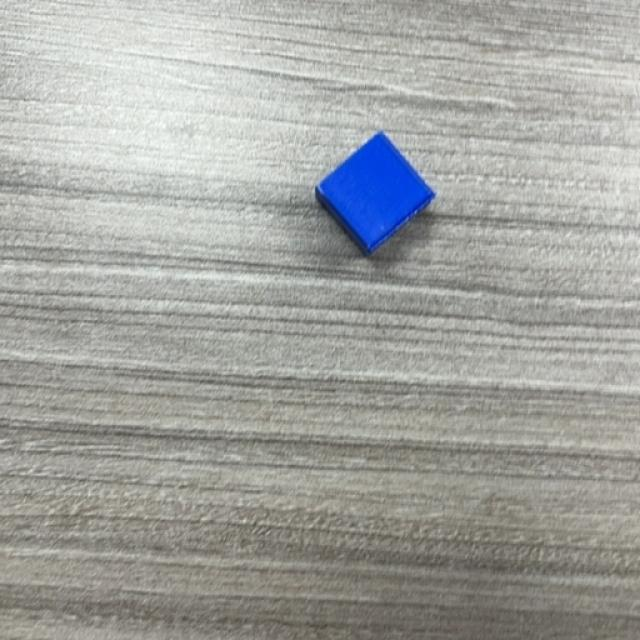Azul: (314, 132, 438, 255)
